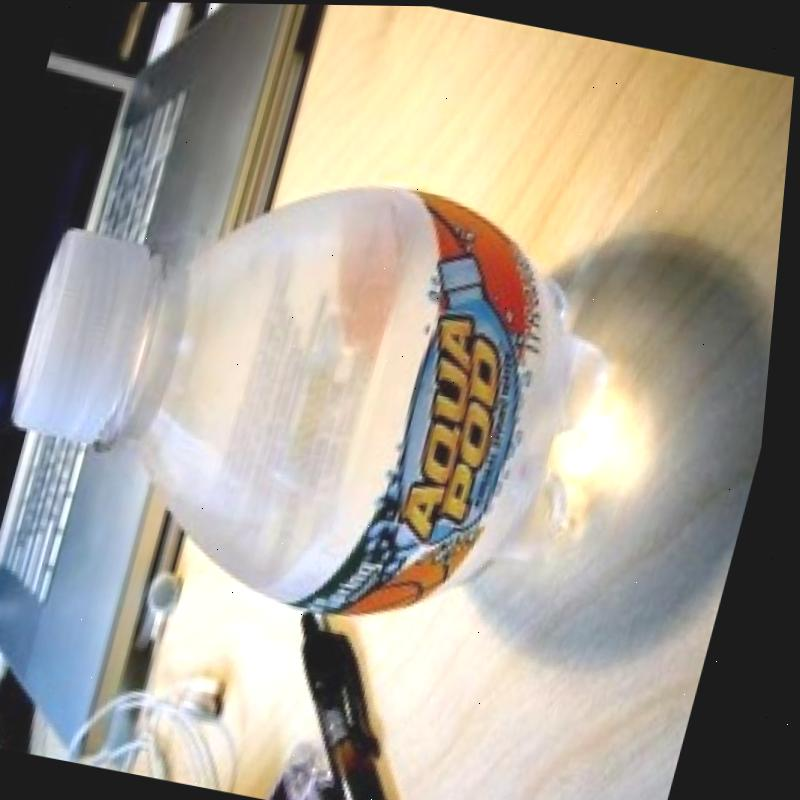botella: (0, 117, 658, 660)
